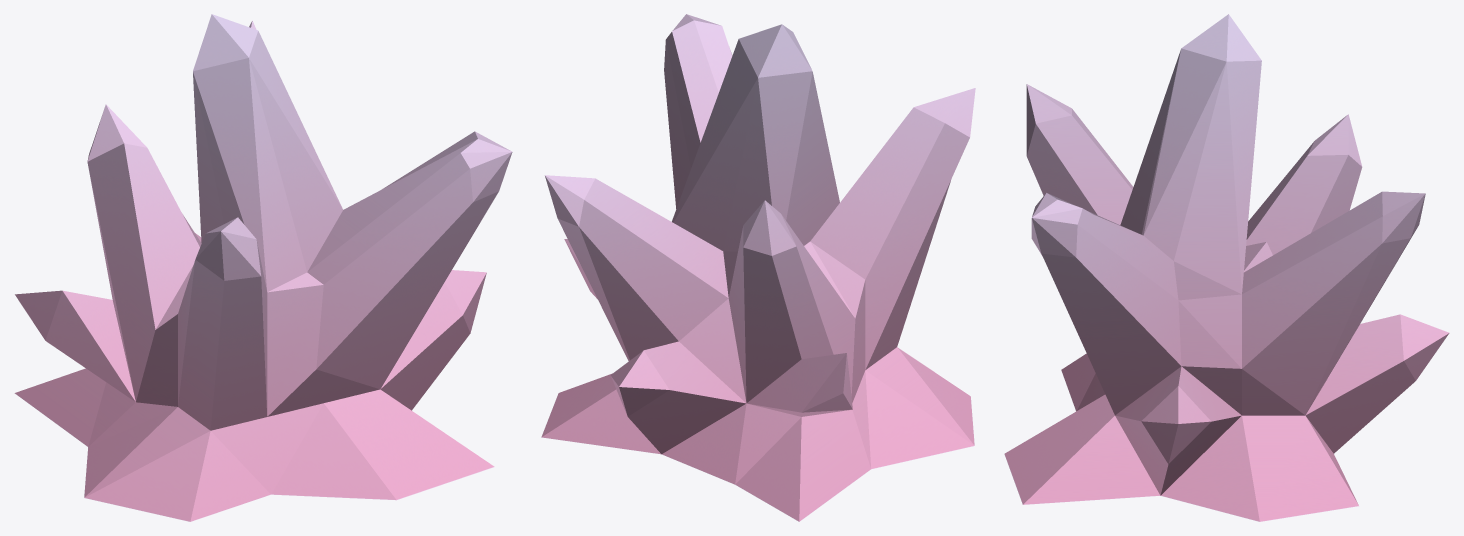
The model's file is MOD_CrystalCluster3.fbx.
The picture shows the model from 3 angles, left to right: view 1: azimuth 30°, elevation 25°; view 2: azimuth 150°, elevation 25°; view 3: azimuth 270°, elevation 25°; orthographic projection. The views are drawn at different scales.
Visible parts, largest first — view 1: pCube1; view 2: pCube1; view 3: pCube1.
Boxes of the visible parts, x1,y1,x2,y2 form: pCube1: [14, 14, 512, 521]; pCube1: [541, 14, 975, 521]; pCube1: [1004, 14, 1449, 521].
Bounding box in the file's own units: 4.86 × 4.71 × 4.68.
1 material, 1 textured.
